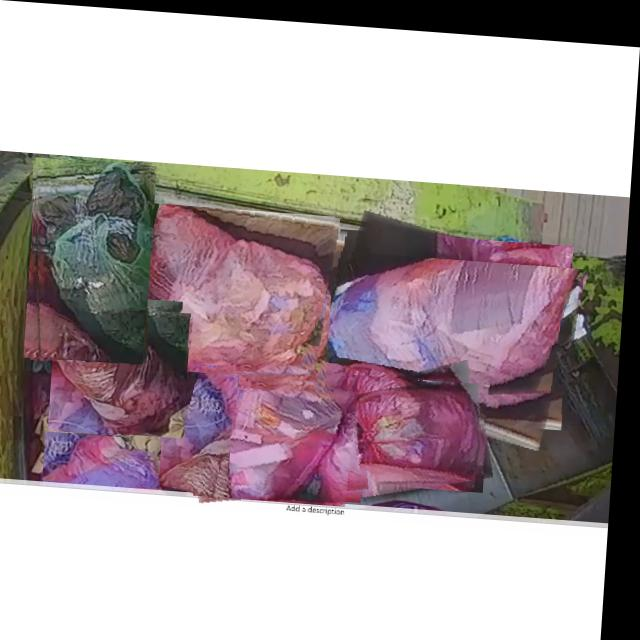general_trashbag: (38, 162, 155, 360)
other_trashbag: (333, 253, 585, 395), (139, 202, 333, 375), (201, 383, 363, 496), (60, 303, 193, 433), (116, 369, 240, 480), (354, 376, 488, 469), (52, 433, 166, 483)
